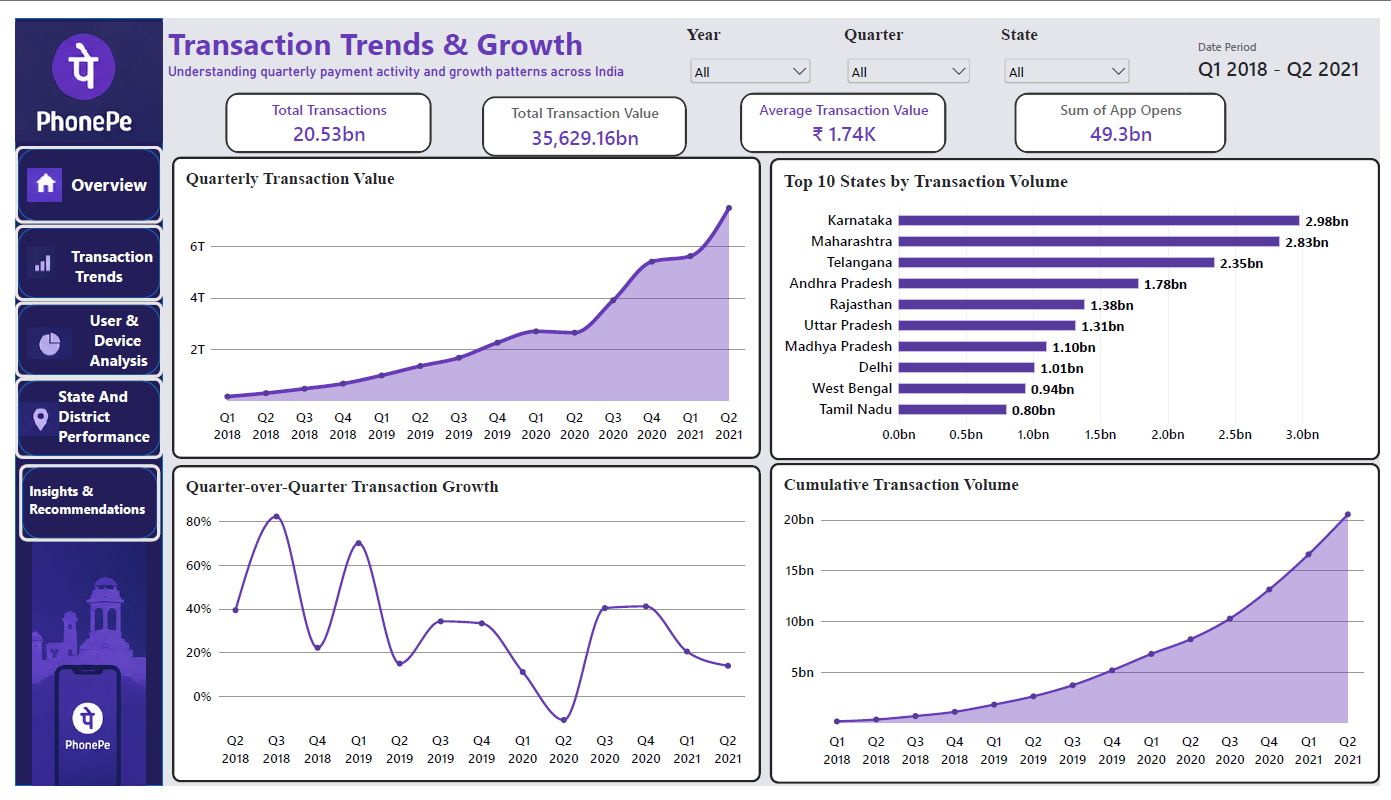

The dashboard page shown, as its layout file describes it:
{"tool":"powerbi","page":{"name":"Transaction Trends","canvas":[1920,1080],"ordinal":1},"visuals":[{"type":"shape","box":[0,0,208,1080.4],"z":0},{"type":"textbox","box":[215.3,5.5,710.4,116],"z":1000},{"type":"cardVisual","fields":{"Data":["State_Txn and Users.Date Period"]},"box":[1647.2,5.5,272.4,106.7],"z":2000},{"type":"slicer","title":"Quarter","fields":{"Values":["State_Txn and Users.Quarter"]},"box":[1165,9.2,184.1,93.9],"z":3000},{"type":"slicer","title":"Year","fields":{"Values":["State_Txn and Users.Year"]},"box":[944.2,9.2,180.4,95.7],"z":4000},{"type":"slicer","title":"State","fields":{"Values":["State_Txn and Users.State"]},"box":[1385.9,9.2,187.7,93.9],"z":5000},{"type":"cardVisual","fields":{"Data":["State_Txn and Users.Total Transaction Value"]},"box":[657.1,110.4,288,85],"z":6000},{"type":"cardVisual","fields":{"Data":["State_Txn and Users.Total Transactions"]},"box":[296.3,104.9,290,85],"z":7000},{"type":"cardVisual","fields":{"Data":["State_Txn and Users.Average Transaction Value"]},"box":[1019.6,104.9,290,85],"z":8000},{"type":"cardVisual","fields":{"Data":["Sum(State_Txn and Users.App Opens)"]},"box":[1406.1,104.9,298.2,85],"z":9000},{"type":"lineChart","title":"\tQuarterly Transaction Value","fields":{"Category":["State_Txn and Users.Year Quarter"],"Y":["State_Txn and Users.Total Transaction Value"]},"box":[220.9,195.1,828.2,425.2],"z":10000},{"type":"lineChart","title":"Quarter-over-Quarter Transaction Growth","fields":{"Category":["State_Txn and Users.Year Quarter"],"Y":["State_Txn and Users.Transaction Growth QoQ %"]},"box":[220.9,629.5,828.2,445.4],"z":12000},{"type":"lineChart","title":"Cumulative Transaction Volume","fields":{"Category":["State_Txn and Users.Year Quarter"],"Y":["State_Txn and Users.Cumulative Transactions"]},"box":[1062,625.8,857.7,450.9],"z":13000},{"type":"clusteredBarChart","title":"Top 10 States by Transaction Volume","fields":{"Category":["DimState.State"],"Y":["State_Txn and Users.Total Transactions"]},"box":[1062,196.9,857.7,425.2],"z":14000},{"type":"image","box":[0,736.2,208,344.2],"z":15000},{"type":"image","box":[0,5.5,208,167.5],"z":16000},{"type":"shape","box":[0,180.4,208,108.6],"z":17000},{"type":"shape","box":[0,290.8,208,106.7],"z":18000},{"type":"shape","box":[0,399.4,208,106.7],"z":19000},{"type":"shape","box":[0,506.1,208,114.1],"z":20000},{"type":"textbox","box":[79.1,217.2,108.6,40.5],"z":21000},{"type":"textbox","box":[79.1,320.2,141.7,93.9],"z":22000},{"type":"textbox","box":[104.9,410.4,141.7,95.7],"z":23000},{"type":"textbox","box":[60.7,517.2,154.6,93.9],"z":24000},{"type":"image","box":[16.6,208,49.7,53.4],"z":25000},{"type":"image","box":[16.6,316.6,38.7,53.4],"z":26000},{"type":"image","box":[18.4,417.8,60.7,79.1],"z":27000},{"type":"image","box":[5.5,530.1,55.2,68.1],"z":28000},{"type":"shape","box":[5.5,627.6,198.8,108.6],"z":28001},{"type":"textbox","box":[20.2,651.5,228.2,84.7],"z":28002}]}

Visuals, with their boxes in screenshot pixels (x1, y1, x2, y2):
shape: <region>11, 11, 159, 783</region>
textbox: <region>165, 15, 672, 98</region>
cardVisual - State_Txn and Users.Date Period: <region>1188, 15, 1382, 91</region>
"Quarter" slicer: <region>843, 17, 975, 85</region>
"Year" slicer: <region>685, 17, 814, 86</region>
"State" slicer: <region>1001, 17, 1135, 85</region>
cardVisual - State_Txn and Users.Total Transaction Value: <region>480, 90, 686, 150</region>
cardVisual - State_Txn and Users.Total Transactions: <region>223, 86, 430, 147</region>
cardVisual - State_Txn and Users.Average Transaction Value: <region>739, 86, 947, 147</region>
cardVisual - Sum(State_Txn and Users.App Opens): <region>1015, 86, 1229, 147</region>
"	Quarterly Transaction Value" lineChart: <region>169, 150, 760, 454</region>
"Quarter-over-Quarter Transaction Growth" lineChart: <region>169, 461, 760, 779</region>
"Cumulative Transaction Volume" lineChart: <region>770, 458, 1382, 780</region>
"Top 10 States by Transaction Volume" clusteredBarChart: <region>770, 152, 1382, 455</region>
image: <region>11, 537, 159, 783</region>
image: <region>11, 15, 159, 134</region>
shape: <region>11, 140, 159, 217</region>
shape: <region>11, 219, 159, 295</region>
shape: <region>11, 296, 159, 372</region>
shape: <region>11, 372, 159, 454</region>
textbox: <region>67, 166, 145, 195</region>
textbox: <region>67, 240, 169, 307</region>
textbox: <region>86, 304, 187, 372</region>
textbox: <region>54, 380, 165, 447</region>
image: <region>23, 159, 58, 198</region>
image: <region>23, 237, 50, 275</region>
image: <region>24, 309, 67, 366</region>
image: <region>15, 390, 54, 438</region>
shape: <region>15, 459, 157, 537</region>
textbox: <region>25, 476, 188, 537</region>
